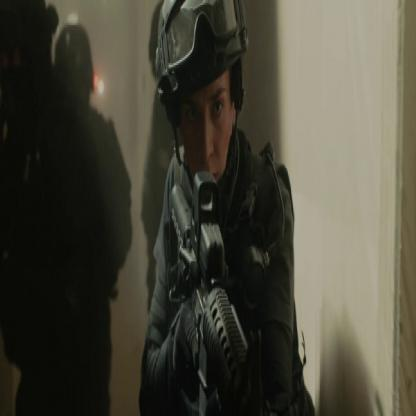Guns: (168, 165, 258, 414)
